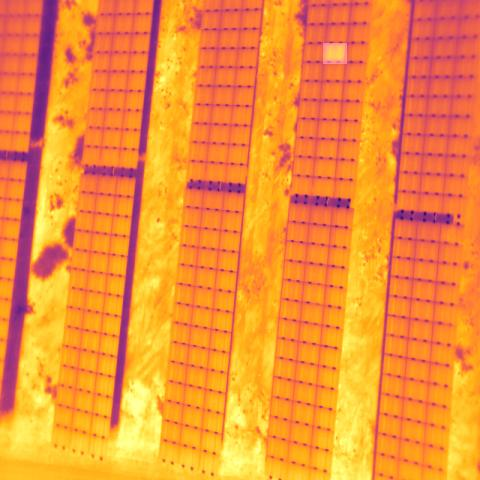fault: (324, 43, 348, 64)
